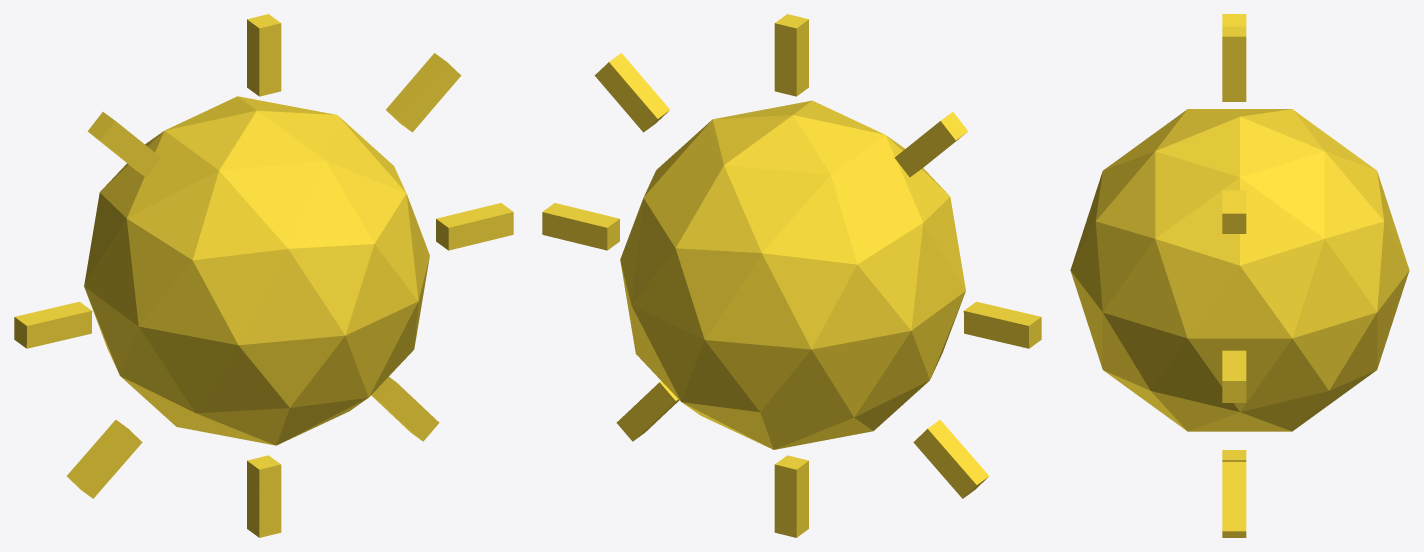
3 views of the same model, side by side, from view 1: azimuth 30°, elevation 25°; view 2: azimuth 150°, elevation 25°; view 3: azimuth 270°, elevation 25° (orthographic). The views are drawn at different scales.
Visible parts, largest first — view 1: 01d_sun_Icosphere; view 2: 01d_sun_Icosphere; view 3: 01d_sun_Icosphere.
Part boxes in pixels (left/top/right/bottom): 01d_sun_Icosphere: left=14, top=14, right=513, bottom=537; 01d_sun_Icosphere: left=542, top=14, right=1041, bottom=537; 01d_sun_Icosphere: left=1070, top=14, right=1409, bottom=537.
Bounding box in the file's own units: 3.37 × 3.37 × 2.12.
